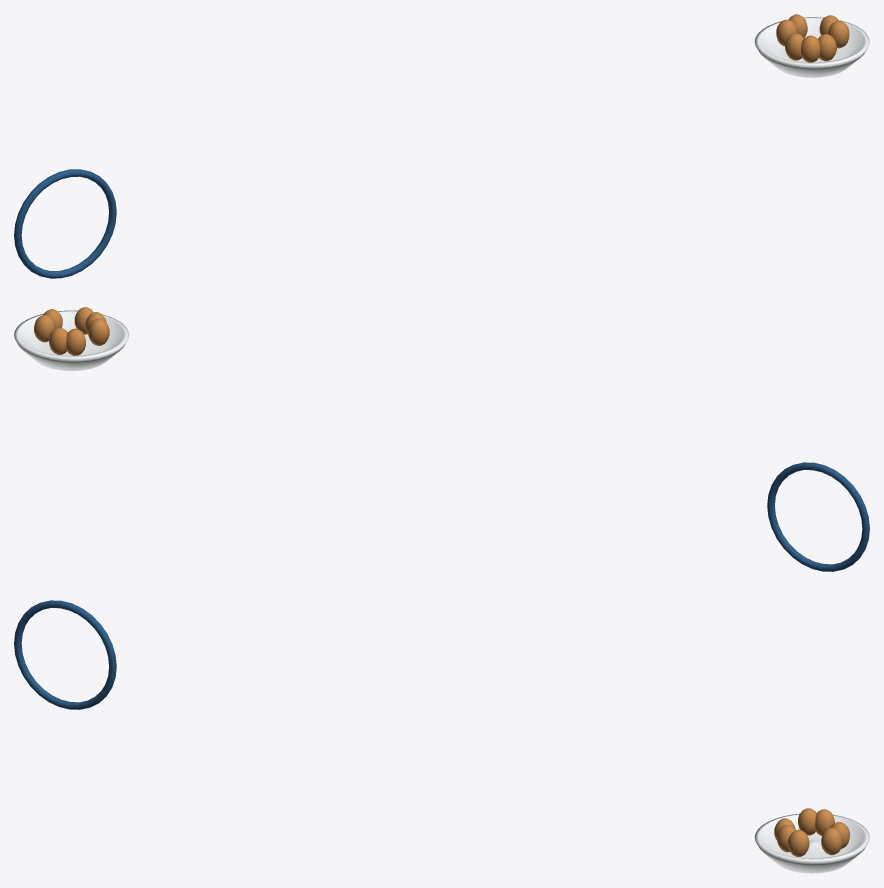
File: wok_food_bowl_peanut.glb
The picture shows the model from 3 angles, top to bottom: view 1: azimuth 30°, elevation 25°; view 2: azimuth 150°, elevation 25°; view 3: azimuth 330°, elevation 25°; orthographic projection.
Bounding box in the file's own units: 1.78 × 0.2128 × 0.21.
